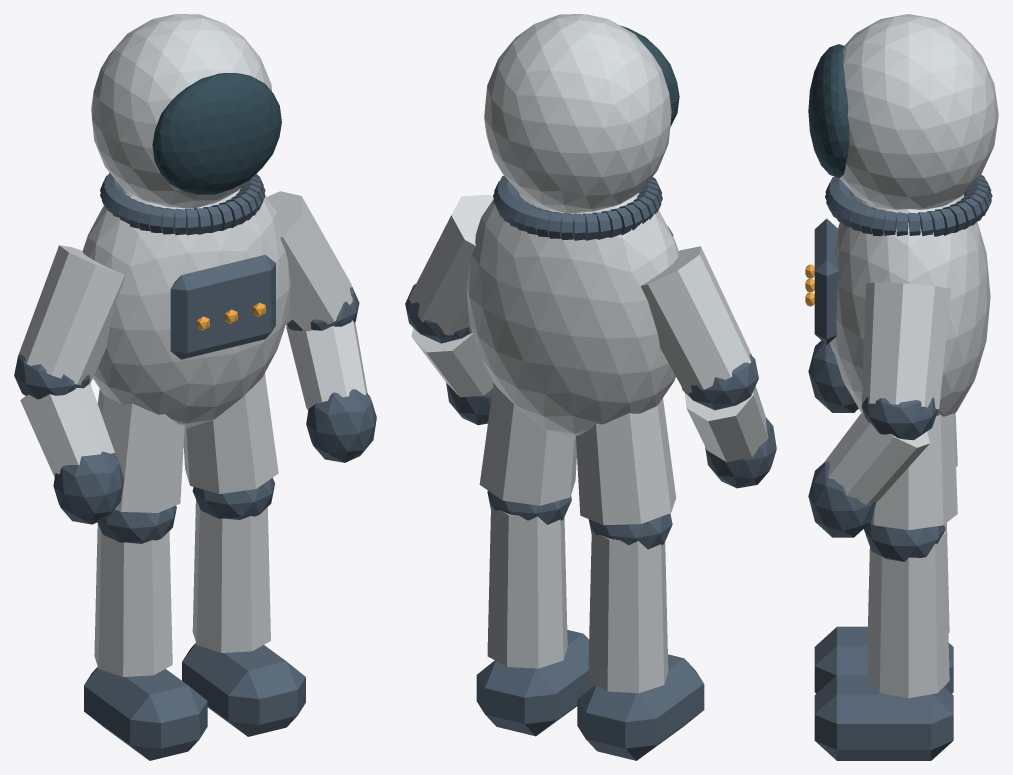
3 renders of one model, left to right at view 1: azimuth 30°, elevation 25°; view 2: azimuth 150°, elevation 25°; view 3: azimuth 270°, elevation 25°, orthographic. The views are drawn at different scales.
Visible parts, largest first — view 1: ME-008 Pressure-suited astronaut batched; view 2: ME-008 Pressure-suited astronaut batched; view 3: ME-008 Pressure-suited astronaut batched.
Part boxes in pixels (x1=…): ME-008 Pressure-suited astronaut batched: x1=14, y1=14, x2=376, y2=760; ME-008 Pressure-suited astronaut batched: x1=405, y1=14, x2=776, y2=760; ME-008 Pressure-suited astronaut batched: x1=805, y1=14, x2=998, y2=760.
Bounding box in the file's own units: 0.9502 × 1.9 × 0.4728.
